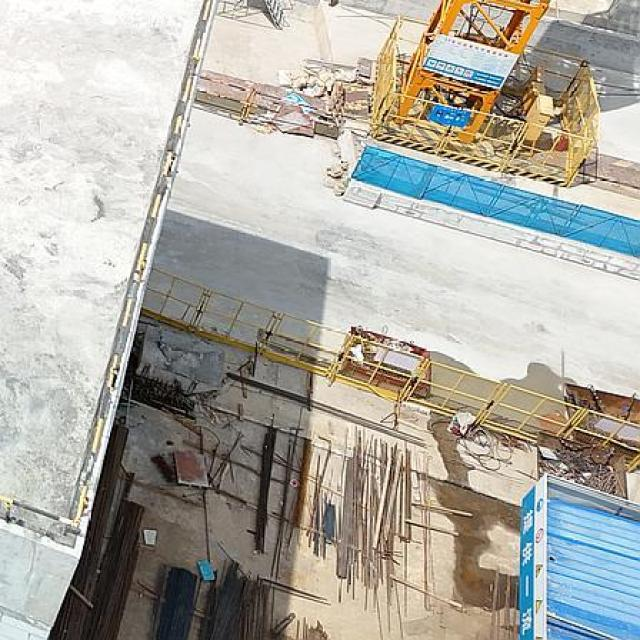edge_guardrail: (0, 0, 217, 533)
